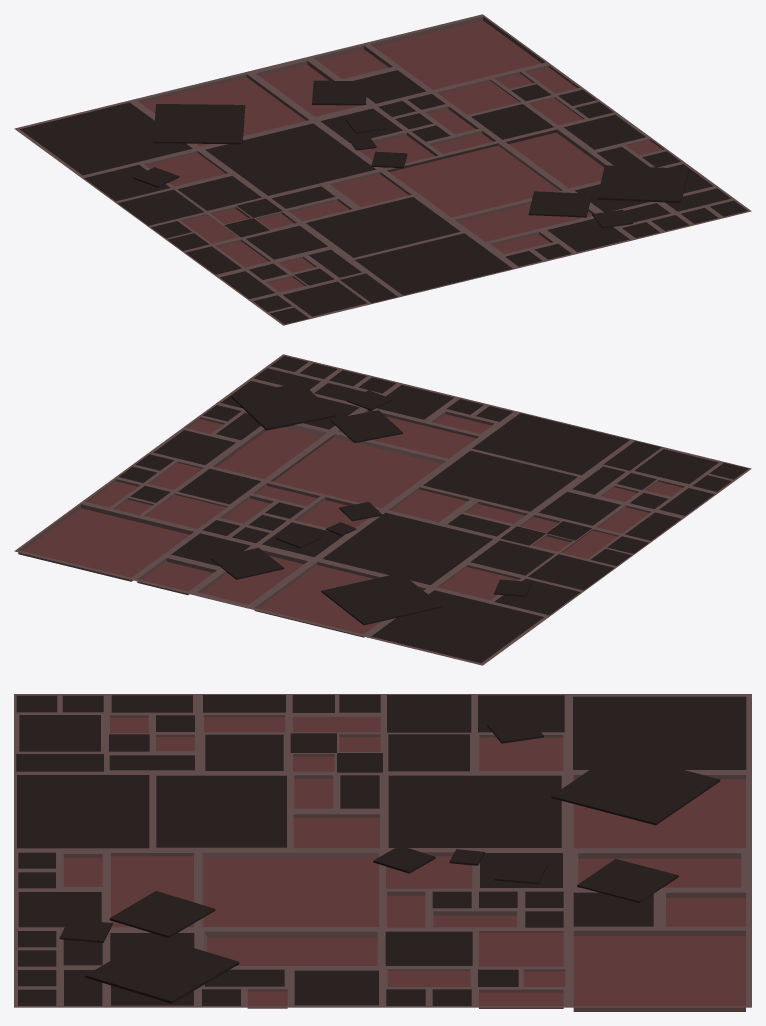
File: FBX_sol 1.fbx
3 views of the same model, one above another, from view 1: azimuth 30°, elevation 25°; view 2: azimuth 150°, elevation 25°; view 3: azimuth 270°, elevation 25° (orthographic). The views are drawn at different scales.
Parts seen in each view (by area): view 1: pCube50; view 2: pCube50; view 3: pCube50.
Part boxes in pixels (x1,y1,x2,y2): pCube50: (14, 14, 751, 325); pCube50: (14, 354, 751, 665); pCube50: (14, 694, 751, 1011).
Size of the model in its own units: 1166 by 14.17 by 1160.
